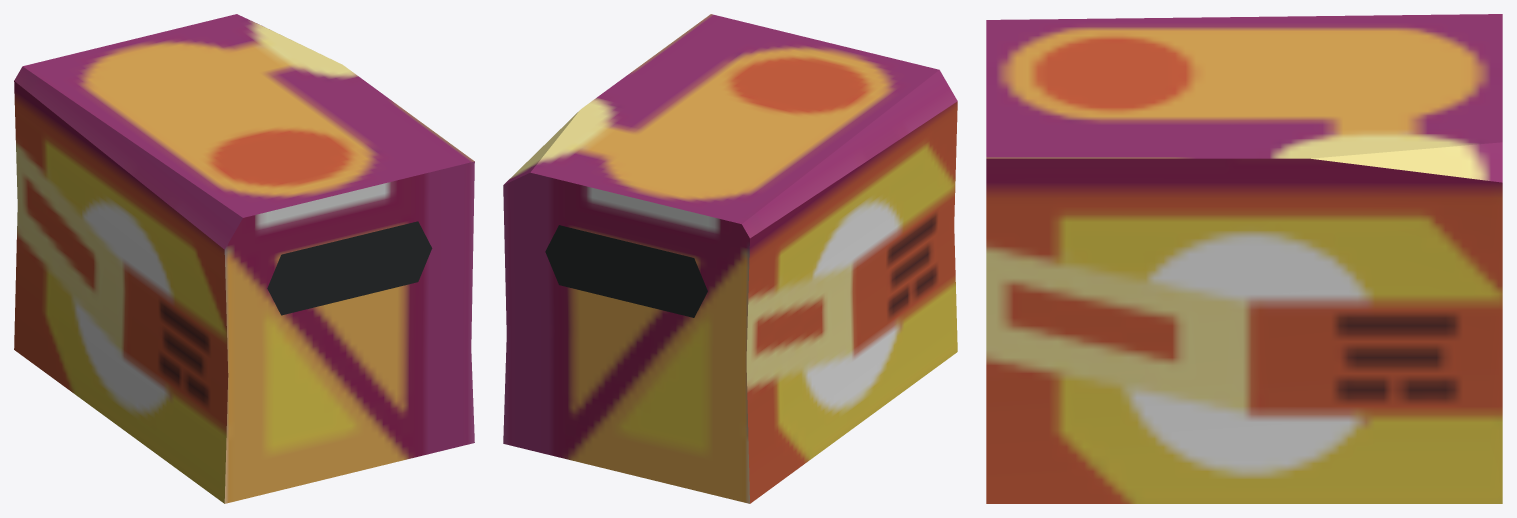
Rendered from SM_Prop_Box_01.obj.
3 renders of one model, left to right at view 1: azimuth 30°, elevation 25°; view 2: azimuth 150°, elevation 25°; view 3: azimuth 270°, elevation 25°, orthographic. The views are drawn at different scales.
Visible parts, largest first — view 1: SM_Prop_Box_01_0; view 2: SM_Prop_Box_01_0; view 3: SM_Prop_Box_01_0.
Boxes of the visible parts, x1,y1,x2,y2 form: SM_Prop_Box_01_0: (14,14,474,503); SM_Prop_Box_01_0: (503,14,957,503); SM_Prop_Box_01_0: (986,14,1502,503).
Bounding box in the file's own units: 0.3209 × 0.345 × 0.4677.
Materials: 1 (1 with a texture image).
